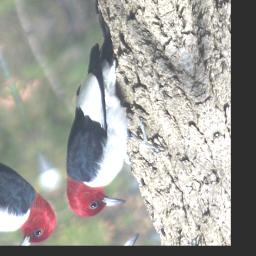Woodpecker: (16, 26, 181, 229)
